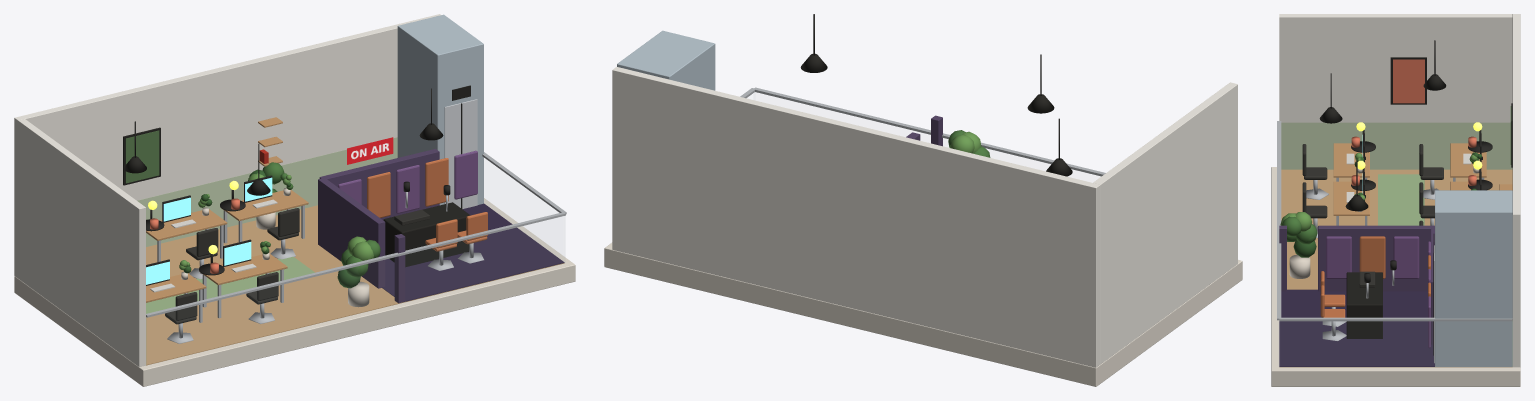
3 renders of one model, left to right at view 1: azimuth 30°, elevation 25°; view 2: azimuth 150°, elevation 25°; view 3: azimuth 270°, elevation 25°, orthographic. The views are drawn at different scales.
Parts seen in each view (by area): view 1: LM_P3, Plane, Cube.064, Cube.031; view 2: LM_P3; view 3: LM_P3.
Boxes of the visible parts, box(x1,y1,x2,y2) form: LM_P3: box(14, 14, 575, 386); Plane: box(347, 137, 393, 164); Cube.064: box(224, 242, 251, 265); Cube.031: box(163, 197, 190, 221); LM_P3: box(604, 14, 1242, 386); LM_P3: box(1271, 14, 1520, 386).
Bounding box in the file's own units: 9.3 × 3.8 × 4.8.
35 materials, 1 textured.
